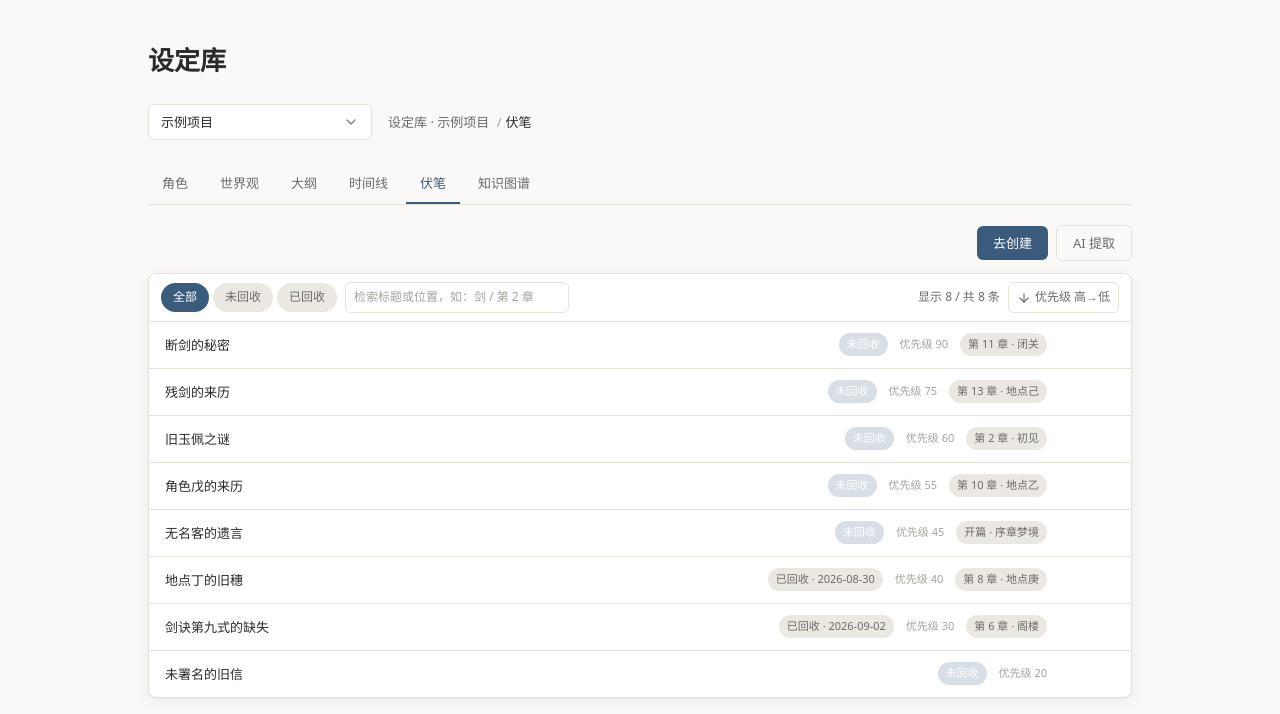
Scenario: #1376 排序：默认降序 · 切换升序 · 与分页共存 › 默认「优先级 高→低」→ 不发排序参数（= 后端缺省）；切换后请求 sort_desc=false 且顺序反转
expect the text with test id "fs-sort-label" reads "优先级 高→低": met, box x1=1035 y1=288 x2=1110 y2=305
Click the button with test id "fs-sort-toggle". click: coordinates (1063, 298)
box: x1=1008 y1=282 x2=1119 y2=313
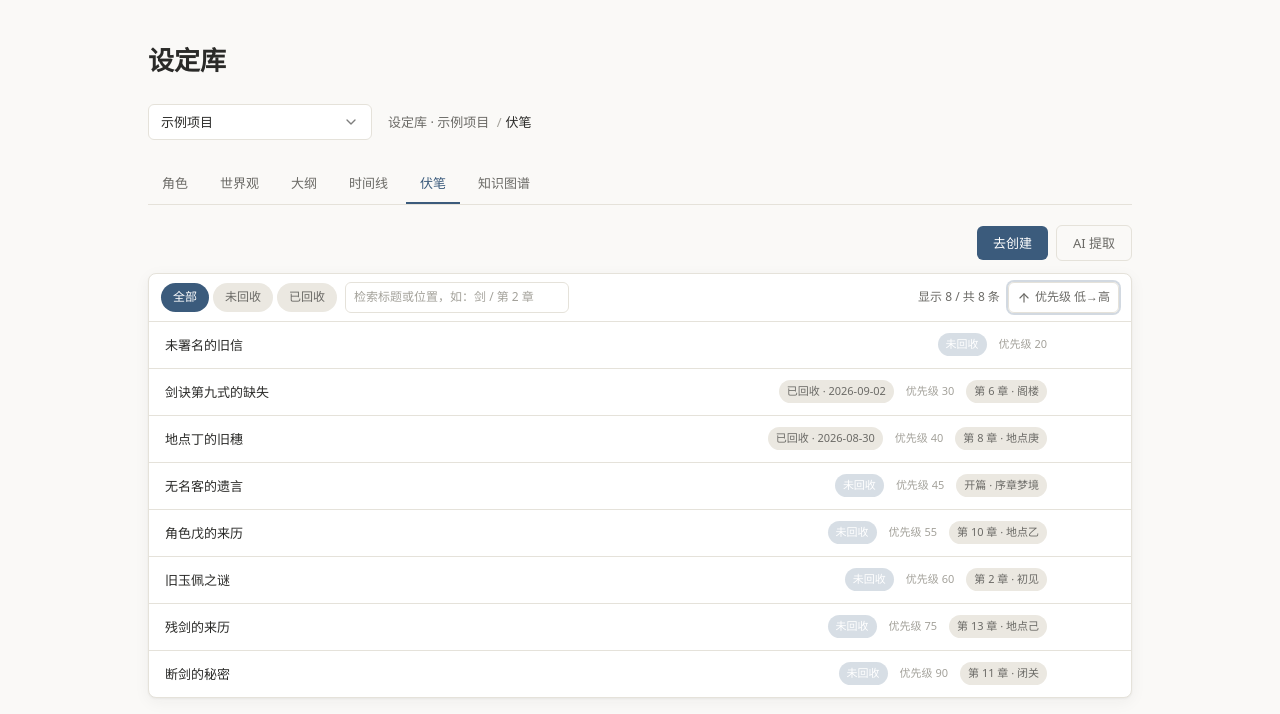
expect the text with test id "fs-sort-label" reads "优先级 低→高": met, box x1=1035 y1=288 x2=1110 y2=305
Click the button with test id "fs-sort-toggle". click: coordinates (1063, 298)
box: x1=1008 y1=282 x2=1119 y2=313
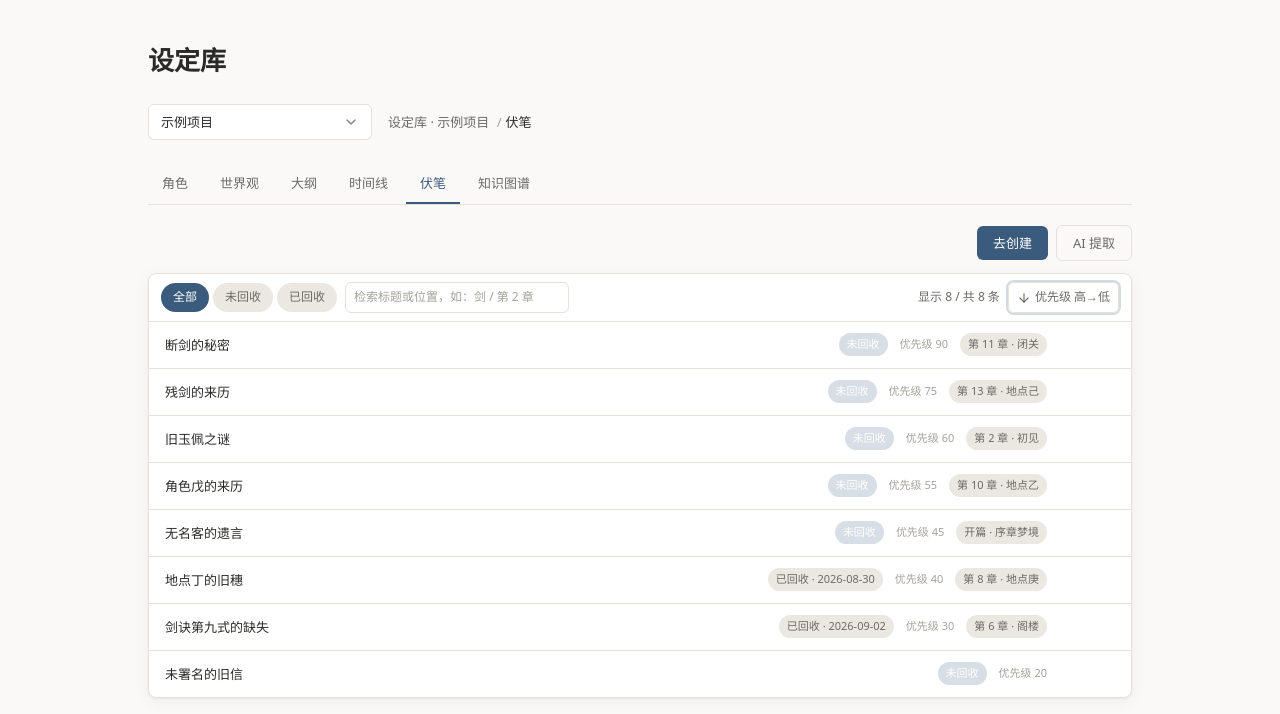
expect the text with test id "fs-sort-label" reads "优先级 高→低": met, box x1=1035 y1=288 x2=1110 y2=305
